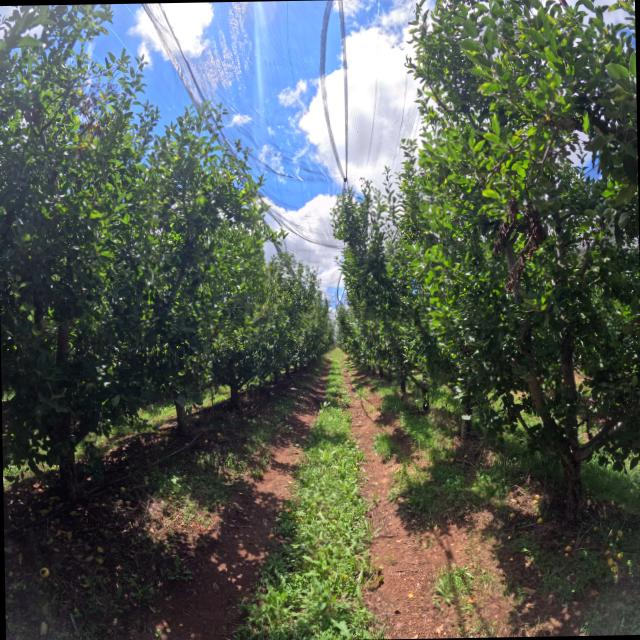-FireBlight-: (492, 193, 546, 292)
